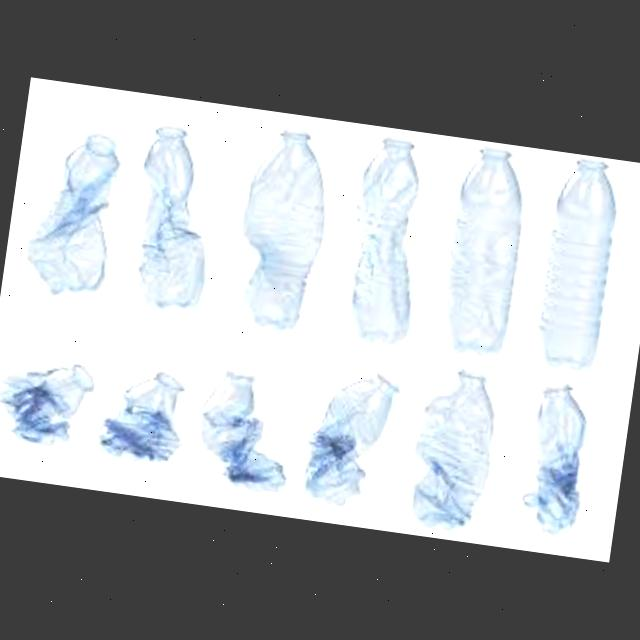trash: (215, 120, 346, 337), (421, 137, 540, 360), (522, 152, 636, 384), (330, 124, 440, 348), (17, 120, 138, 304), (120, 117, 228, 322), (393, 359, 512, 541), (292, 354, 412, 517), (503, 371, 607, 545), (186, 354, 300, 510), (94, 356, 198, 486), (0, 355, 100, 459)
